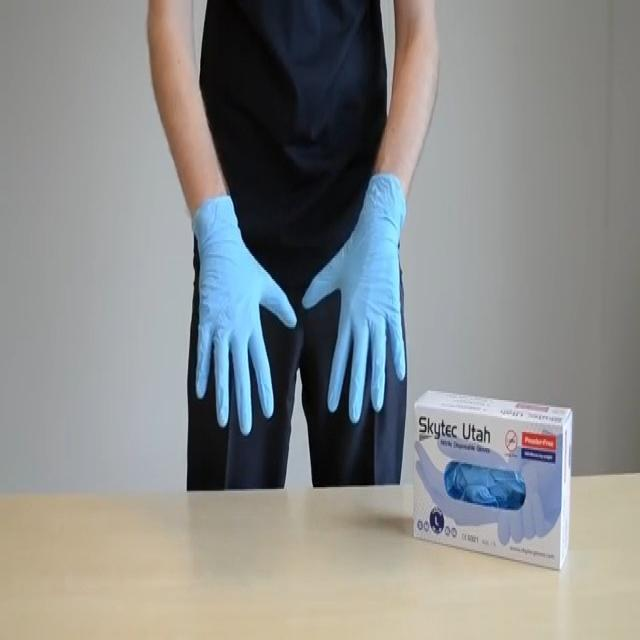Gloves: (177, 187, 299, 443), (308, 173, 427, 431)
